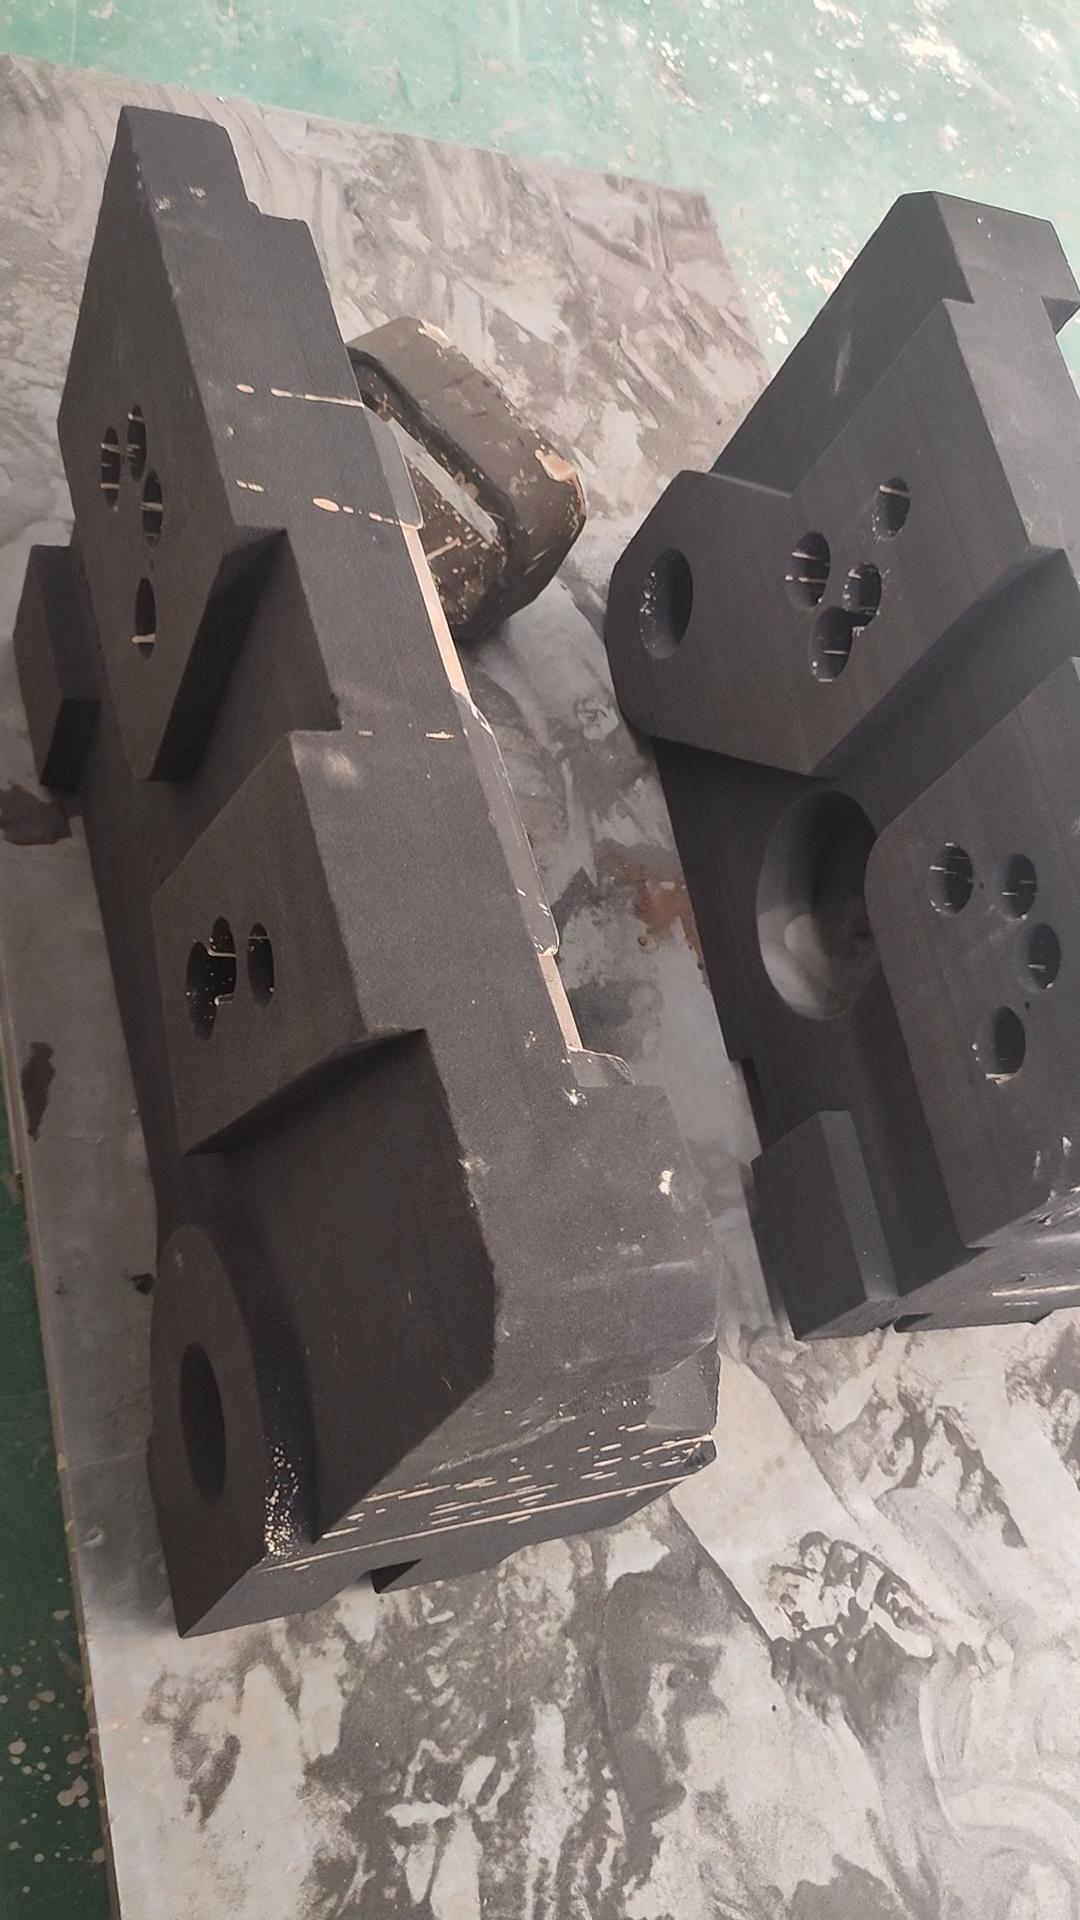pouring hole: (178, 1342, 225, 1502), (640, 549, 694, 658)
